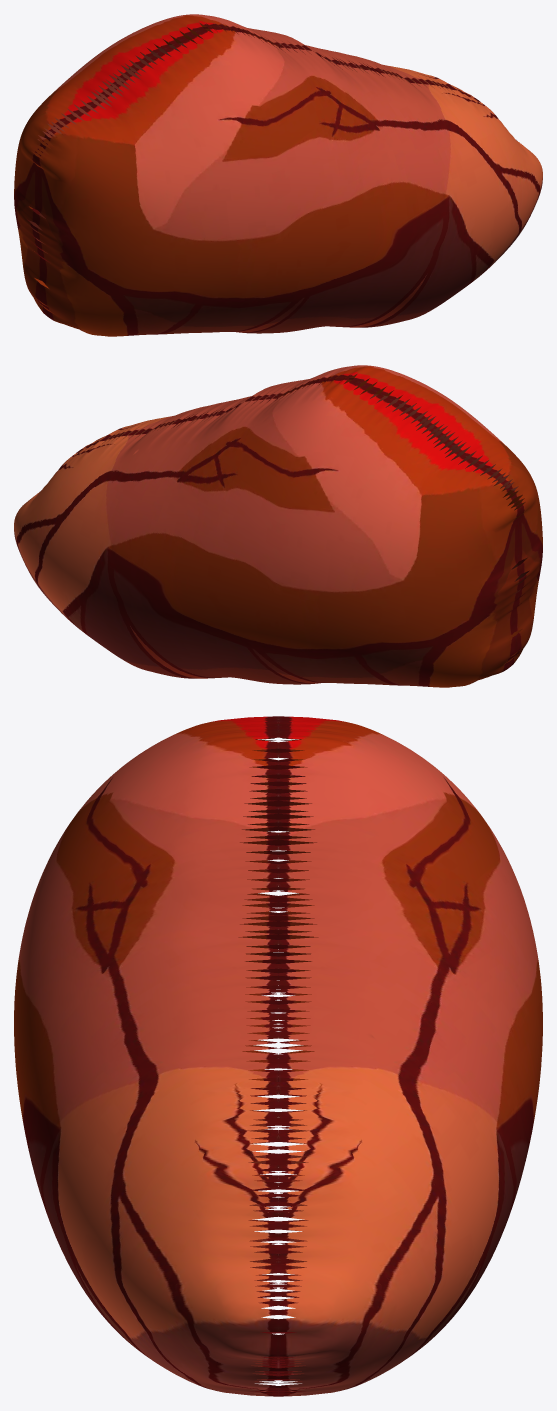
The model's file is foreground_escarpment.glb.
3 views of the same model, one above another, from view 1: azimuth 30°, elevation 25°; view 2: azimuth 150°, elevation 25°; view 3: azimuth 270°, elevation 25° (orthographic). The views are drawn at different scales.
Parts seen in each view (by area): view 1: foreground_escarpment; view 2: foreground_escarpment; view 3: foreground_escarpment.
Boxes of the visible parts, x1=… form: foreground_escarpment: x1=14, y1=14, x2=542, y2=336; foreground_escarpment: x1=14, y1=365, x2=542, y2=687; foreground_escarpment: x1=14, y1=716, x2=542, y2=1396.
Bounding box in the file's own units: 0.9888 × 0.6123 × 0.5697.
1 material, 1 textured.
